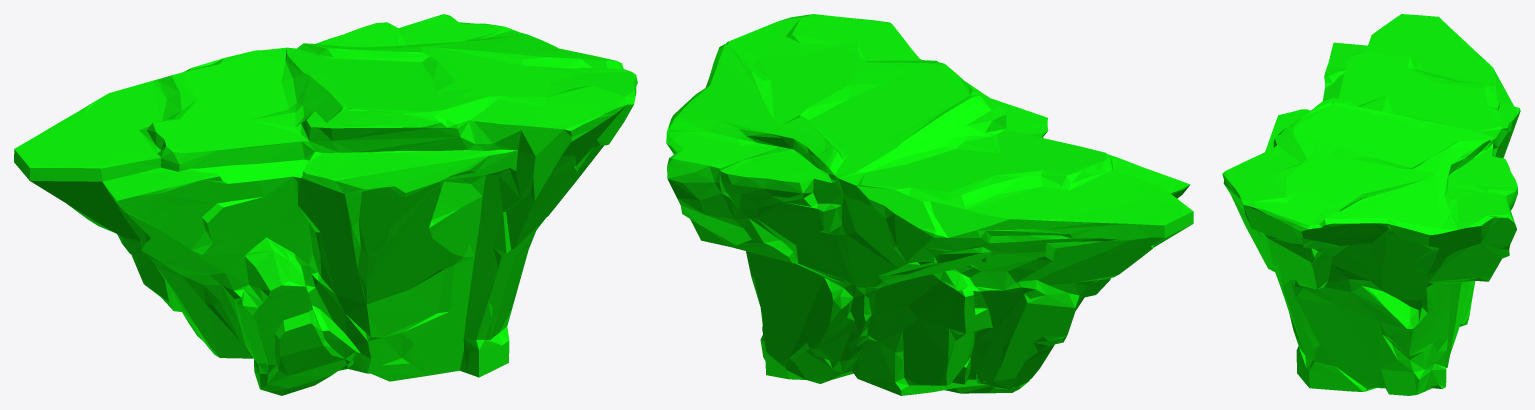
File: SM_Iceberg_Medium_D_Rock.fbx
3 views of the same model, side by side, from view 1: azimuth 30°, elevation 25°; view 2: azimuth 150°, elevation 25°; view 3: azimuth 270°, elevation 25° (orthographic). The views are drawn at different scales.
Parts seen in each view (by area): view 1: SM_Iceberg_Medium_D_Rock; view 2: SM_Iceberg_Medium_D_Rock; view 3: SM_Iceberg_Medium_D_Rock.
Boxes of the visible parts, left/top/right/bottom form: SM_Iceberg_Medium_D_Rock: left=14, top=14, right=637, bottom=395; SM_Iceberg_Medium_D_Rock: left=666, top=14, right=1193, bottom=395; SM_Iceberg_Medium_D_Rock: left=1222, top=14, right=1520, bottom=395.
Bounding box in the file's own units: 14.57 × 7.3 × 8.48.
